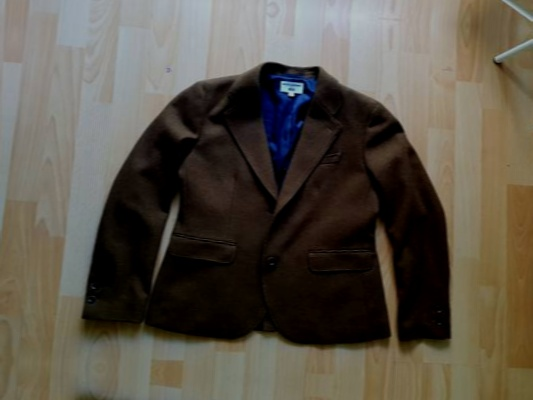Blazer: (104, 61, 476, 354)
